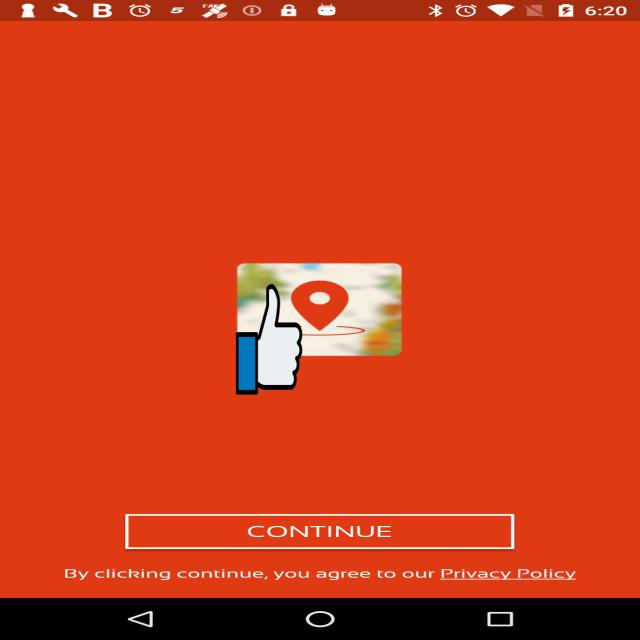privacy zuckering: (236, 282, 302, 397)
